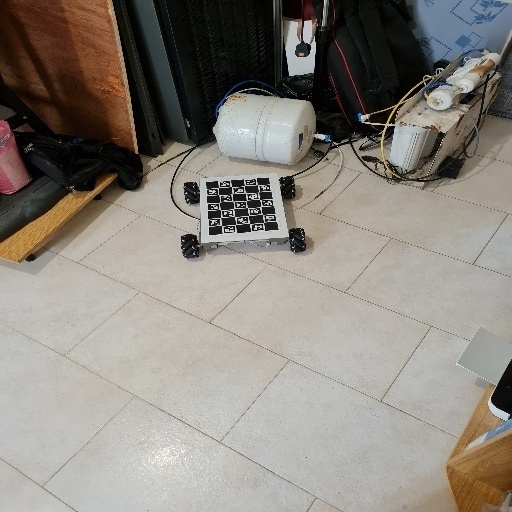Omniwheel: (180, 173, 308, 259)
